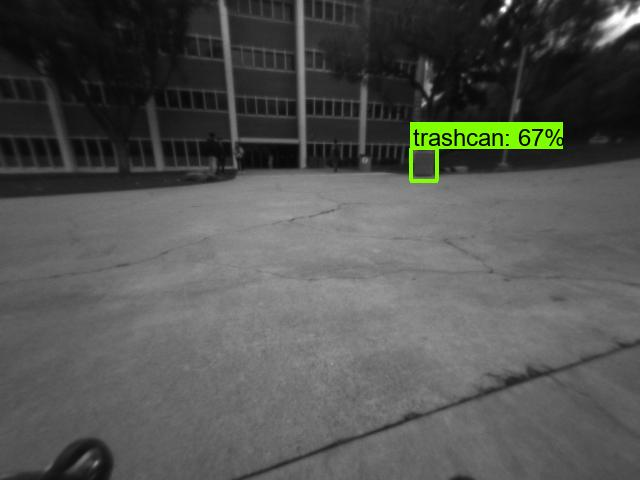trashcan: (416, 148, 436, 182), (358, 152, 376, 176)
